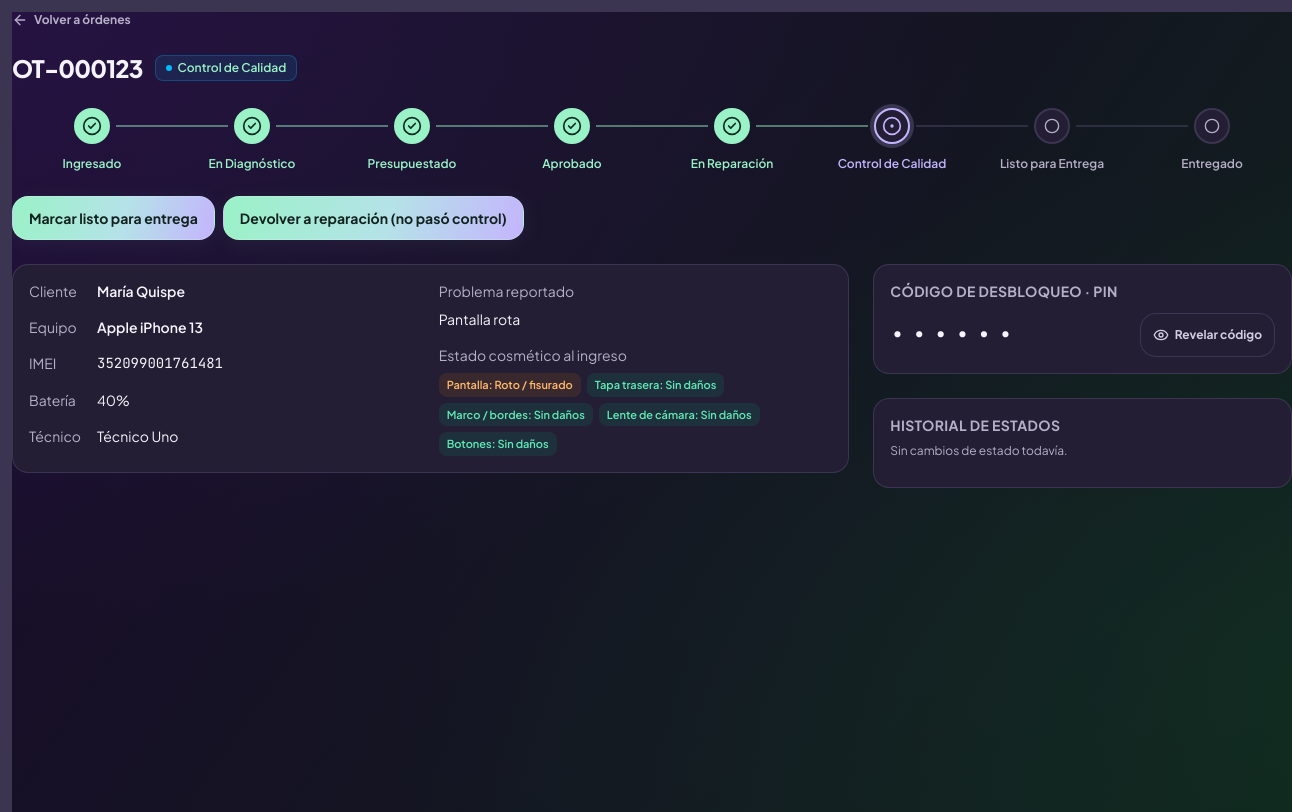
WorkOrderDetailPage › runs a transition and reports the new status [004/RF-2.5] [004/RF-2.4]
Expected: the button "Devolver a reparación (no pasó control)" is shown, [223, 196, 524, 240]
Click the button "Marcar listo para entrega": (113, 218) [12, 196, 215, 240]
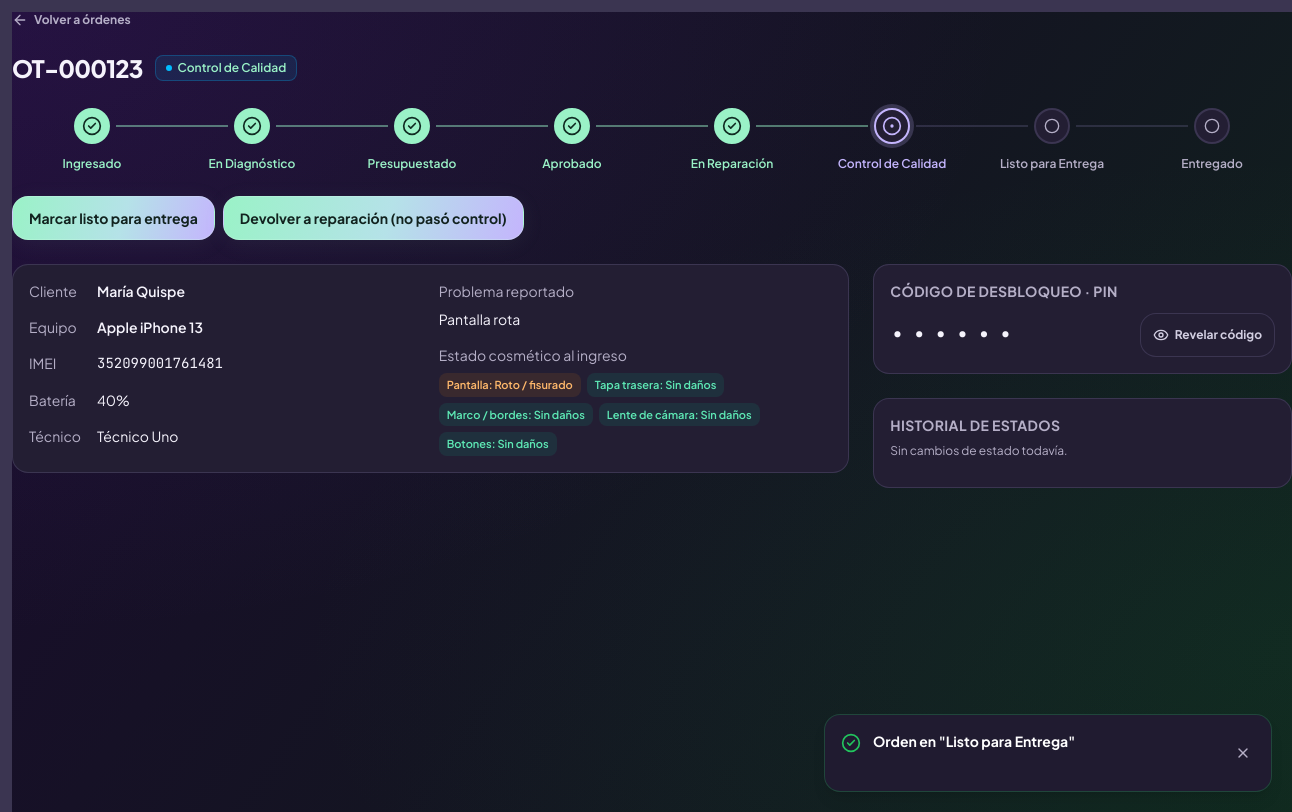
Now the heading "Orden en \"Listo para Entrega\"" is shown, box [873, 731, 1075, 751]
